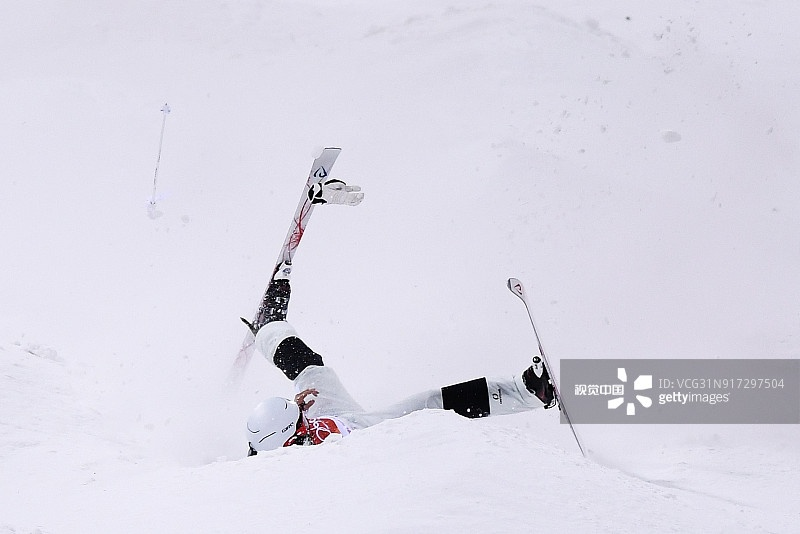falling: (192, 148, 593, 488)
